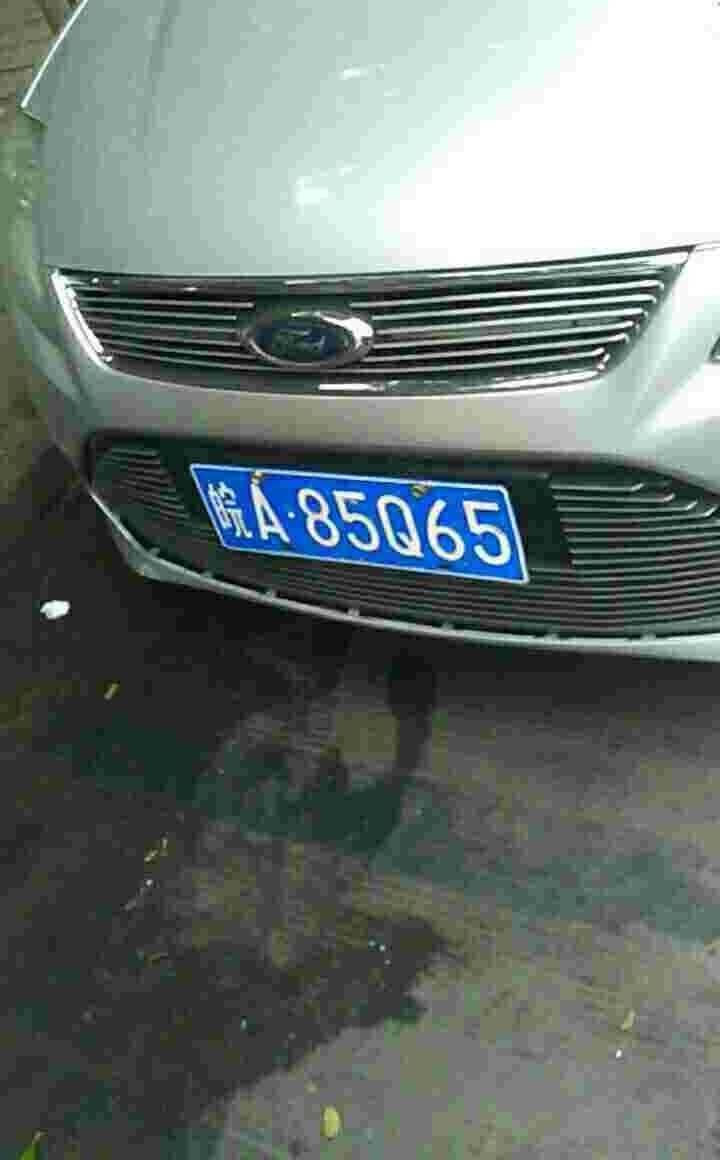license_plate: (199, 469, 522, 579)
